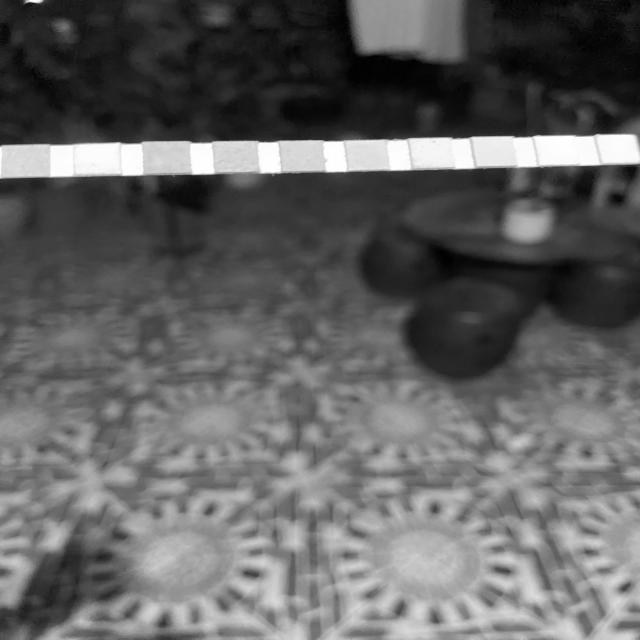Bilirubin: (76, 144, 120, 174)
Blood: (282, 142, 324, 170)
Glucose: (2, 145, 48, 176)
Ketone: (144, 144, 192, 172)
Leukocytes: (606, 136, 636, 163)
Nitrite: (540, 137, 578, 164)
Protein: (415, 139, 451, 167)
SpGravity: (215, 143, 257, 171)
Urobilinogen: (479, 137, 512, 165)
background: (0, 0, 640, 640)
pH: (350, 140, 387, 169)
strip: (0, 134, 639, 178)
